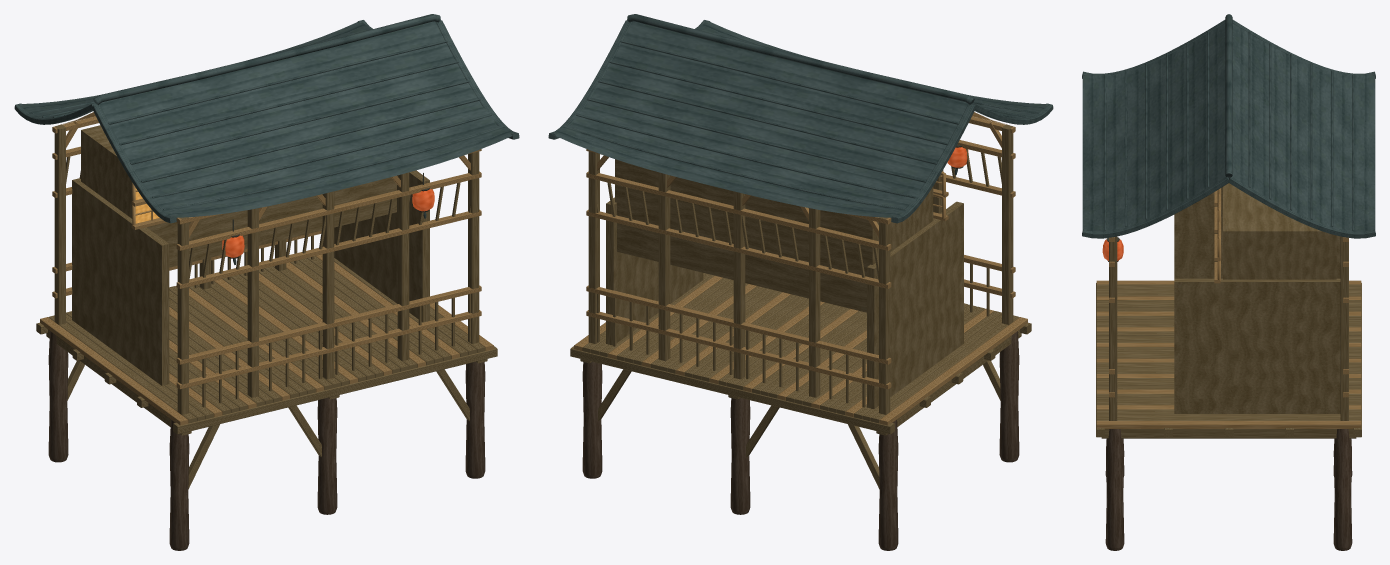
Rendered from tujia_diaojiaolou.glb.
The picture shows the model from 3 angles, left to right: view 1: azimuth 30°, elevation 25°; view 2: azimuth 150°, elevation 25°; view 3: azimuth 270°, elevation 25°; orthographic projection. The views are drawn at different scales.
Visible parts, largest first — view 1: tujia_diaojiaolou; view 2: tujia_diaojiaolou; view 3: tujia_diaojiaolou.
Part boxes in pixels (x1,y1,x2,y2): tujia_diaojiaolou: [14, 14, 519, 550]; tujia_diaojiaolou: [548, 14, 1053, 550]; tujia_diaojiaolou: [1082, 14, 1375, 550].
Size of the model in its own units: 6.2 by 7 by 4.8.
Materials: 2 (2 with a texture image).
